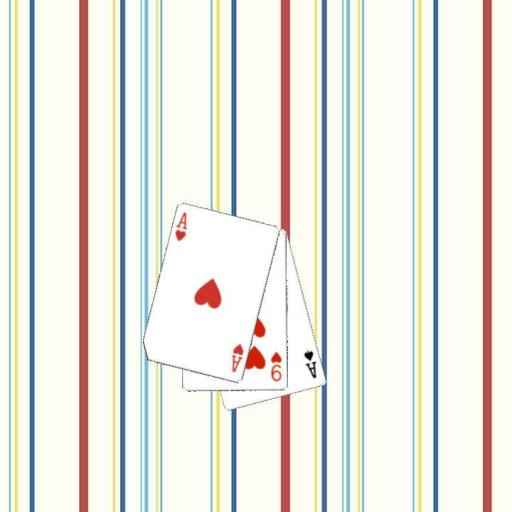9H: (268, 349, 284, 383)
AH: (172, 209, 189, 243), (229, 341, 246, 374)
AS: (301, 347, 318, 380)
